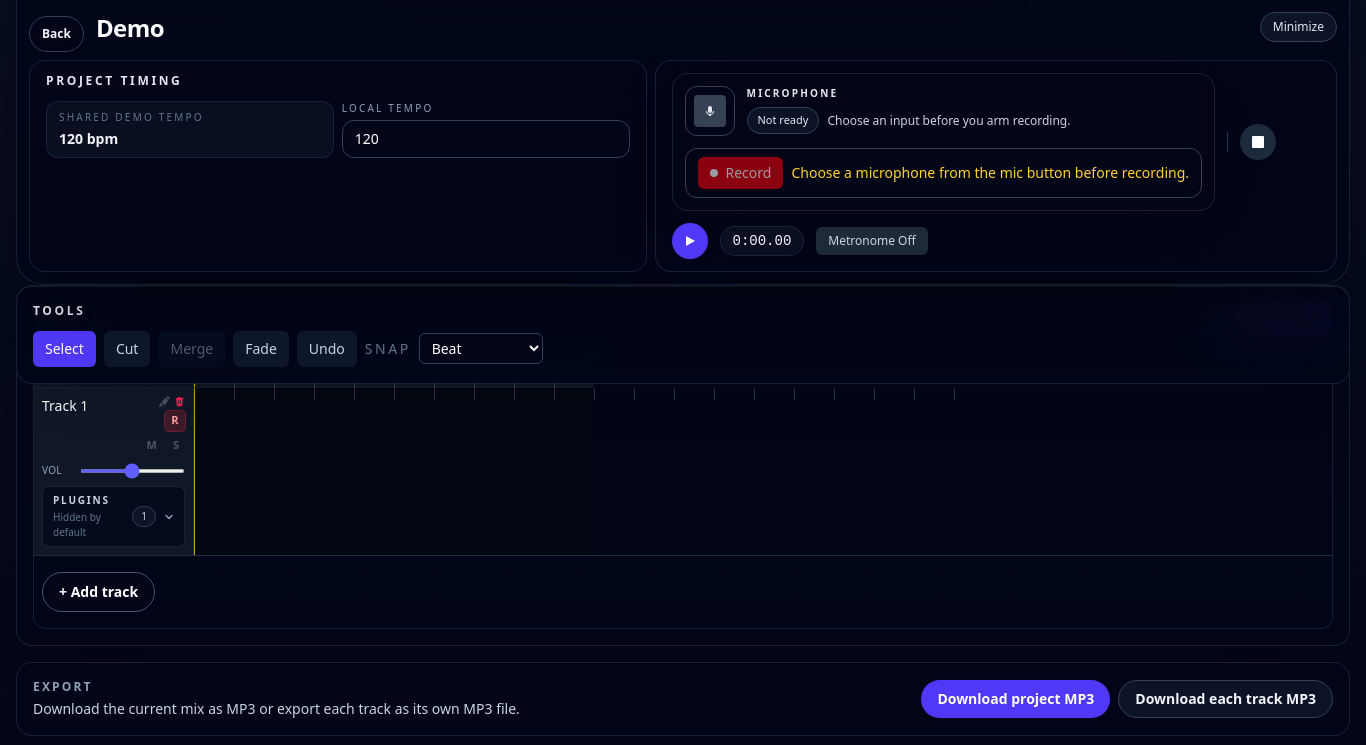
Scenario: DemoDawClient recording regression › keeps track insert chains collapsed by default and reveals them on demand
(page scrolled)
Step 1. Click the button with aria-label "Show plugins on Track 1" → (114,516), box [42, 486, 185, 547]
(page scrolled)
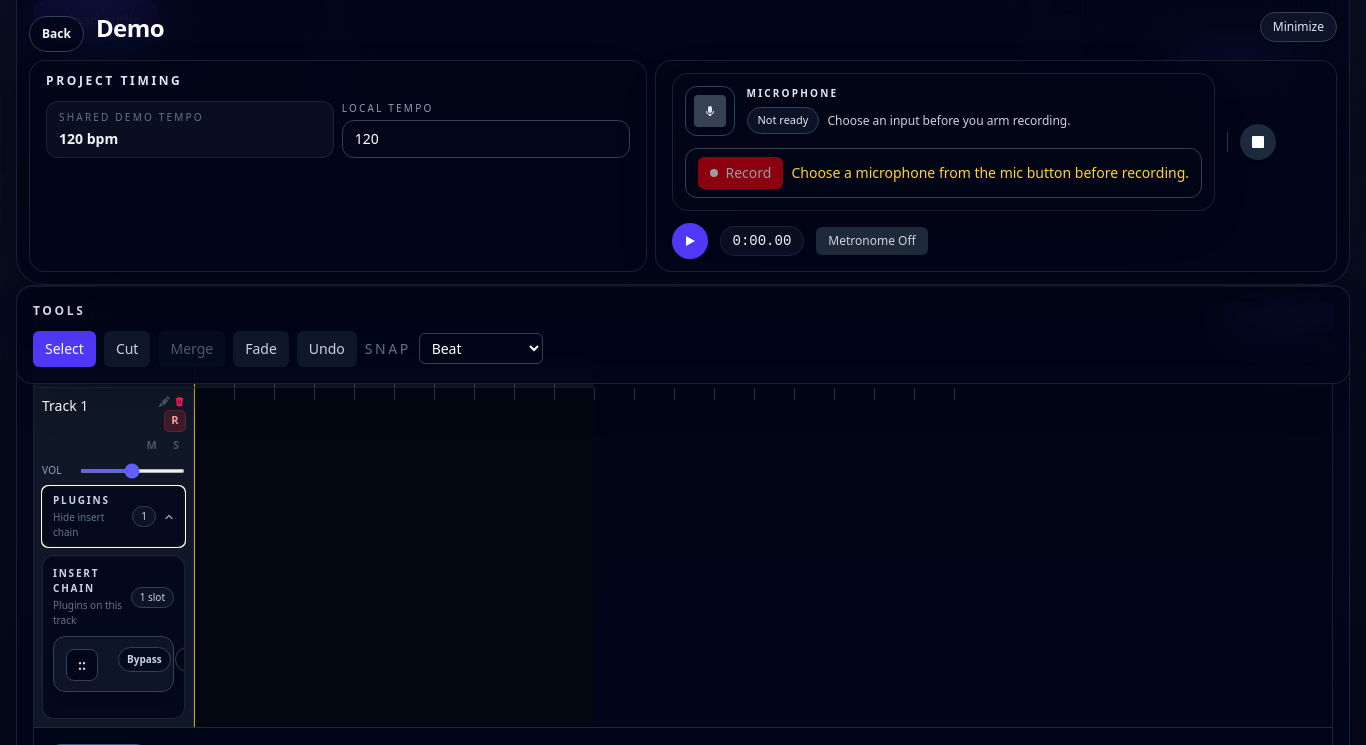
Expected: the element with test id "track-plugin-chain-version-1-track-1" is shown, [42, 555, 185, 719]
